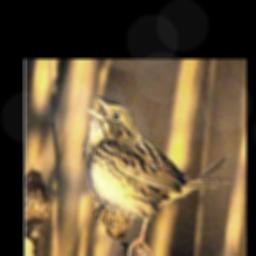Sparrow: (84, 94, 236, 256)
